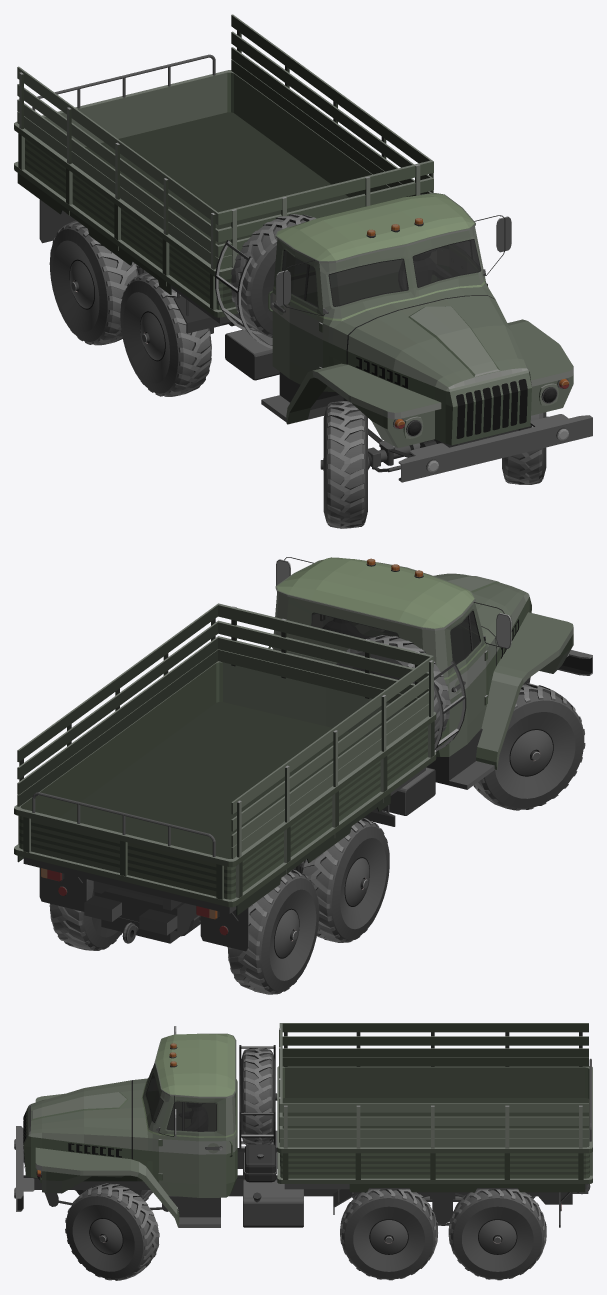
Rendered from truck_ural.obj.
3 views of the same model, one above another, from view 1: azimuth 30°, elevation 25°; view 2: azimuth 150°, elevation 25°; view 3: azimuth 270°, elevation 25° (orthographic). The views are drawn at different scales.
Visible parts, largest first — view 1: Body_Vehicle_0, RRW1_Vehicle_0, RRW2_Vehicle_0, Body_Glass_0, FRW_Vehicle_0, FLW_Vehicle_0, Suspension_Engine_Vehicle_0, Driver_Vehicle_0; view 2: Body_Vehicle_0, FRW_Vehicle_0, RRW2_Vehicle_0, RRW1_Vehicle_0, RLW2_Vehicle_0, Body_Glass_0, Body_Emission_0; view 3: Body_Vehicle_0, RLW2_Vehicle_0, RLW1_Vehicle_0, FLW_Vehicle_0, Body_Glass_0, Driver_Vehicle_0.
Part boxes in pixels (bbox=[...]): Body_Vehicle_0: bbox=[14, 14, 592, 482]; RRW1_Vehicle_0: bbox=[120, 272, 211, 396]; RRW2_Vehicle_0: bbox=[49, 220, 138, 345]; Body_Glass_0: bbox=[283, 239, 480, 306]; FRW_Vehicle_0: bbox=[320, 401, 367, 528]; FLW_Vehicle_0: bbox=[502, 412, 547, 484]; Suspension_Engine_Vehicle_0: bbox=[136, 264, 421, 472]; Driver_Vehicle_0: bbox=[398, 249, 451, 289]; Body_Vehicle_0: bbox=[14, 557, 592, 951]; FRW_Vehicle_0: bbox=[473, 683, 585, 810]; RRW2_Vehicle_0: bbox=[227, 869, 319, 994]; RRW1_Vehicle_0: bbox=[301, 818, 389, 942]; RLW2_Vehicle_0: bbox=[49, 879, 122, 950]; Body_Glass_0: bbox=[312, 611, 479, 663]; Body_Emission_0: bbox=[41, 558, 422, 935]; Body_Vehicle_0: bbox=[15, 1023, 592, 1227]; RLW2_Vehicle_0: bbox=[448, 1189, 546, 1280]; RLW1_Vehicle_0: bbox=[340, 1189, 437, 1280]; FLW_Vehicle_0: bbox=[65, 1183, 159, 1280]; Body_Glass_0: bbox=[146, 1063, 216, 1131]; Driver_Vehicle_0: bbox=[179, 1103, 207, 1130].
Bounding box in the file's own units: 289 × 265 × 733.
3 materials, 3 textured.
